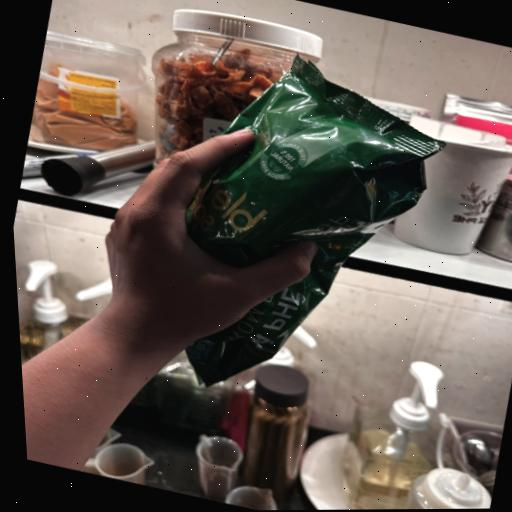cafe_xay: (185, 56, 445, 386)
